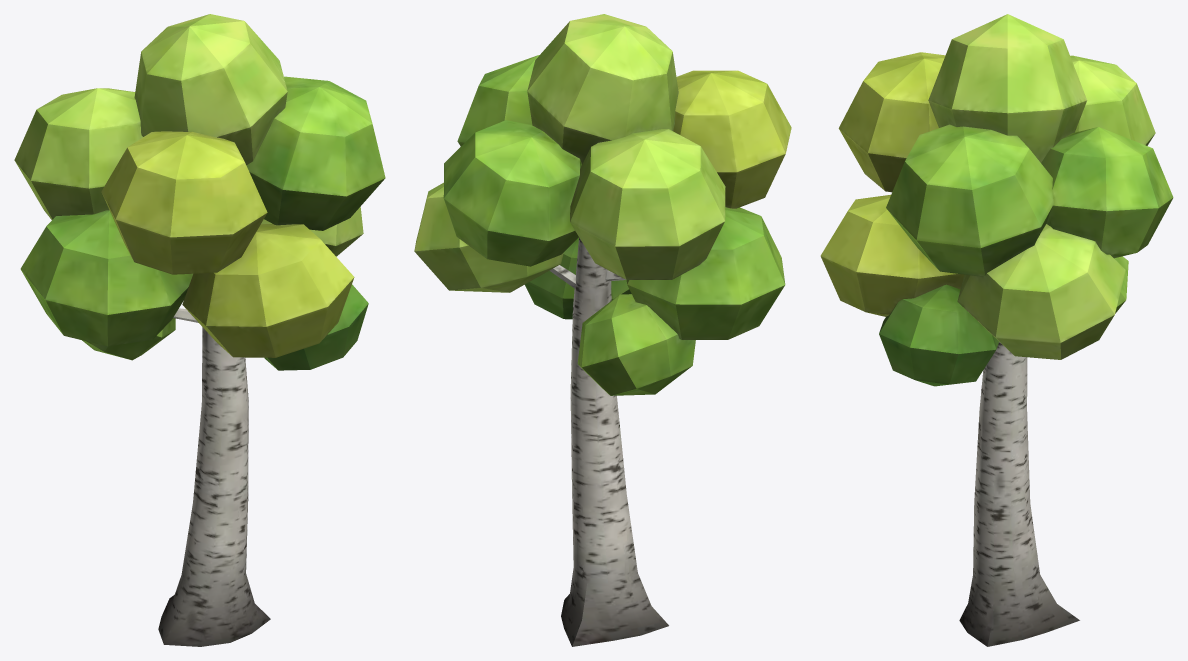
The model's file is tree_birch.glb.
3 views of the same model, side by side, from view 1: azimuth 30°, elevation 25°; view 2: azimuth 150°, elevation 25°; view 3: azimuth 270°, elevation 25° (orthographic).
Parts seen in each view (by area): view 1: Static_Mesh; view 2: Static_Mesh; view 3: Static_Mesh.
Part boxes in pixels (x1,y1,x2,y2): Static_Mesh: [14, 14, 385, 646]; Static_Mesh: [414, 14, 791, 646]; Static_Mesh: [820, 14, 1173, 646].
Bounding box in the file's own units: 3.98 × 6.82 × 3.64.
Materials: 1 (1 with a texture image).
